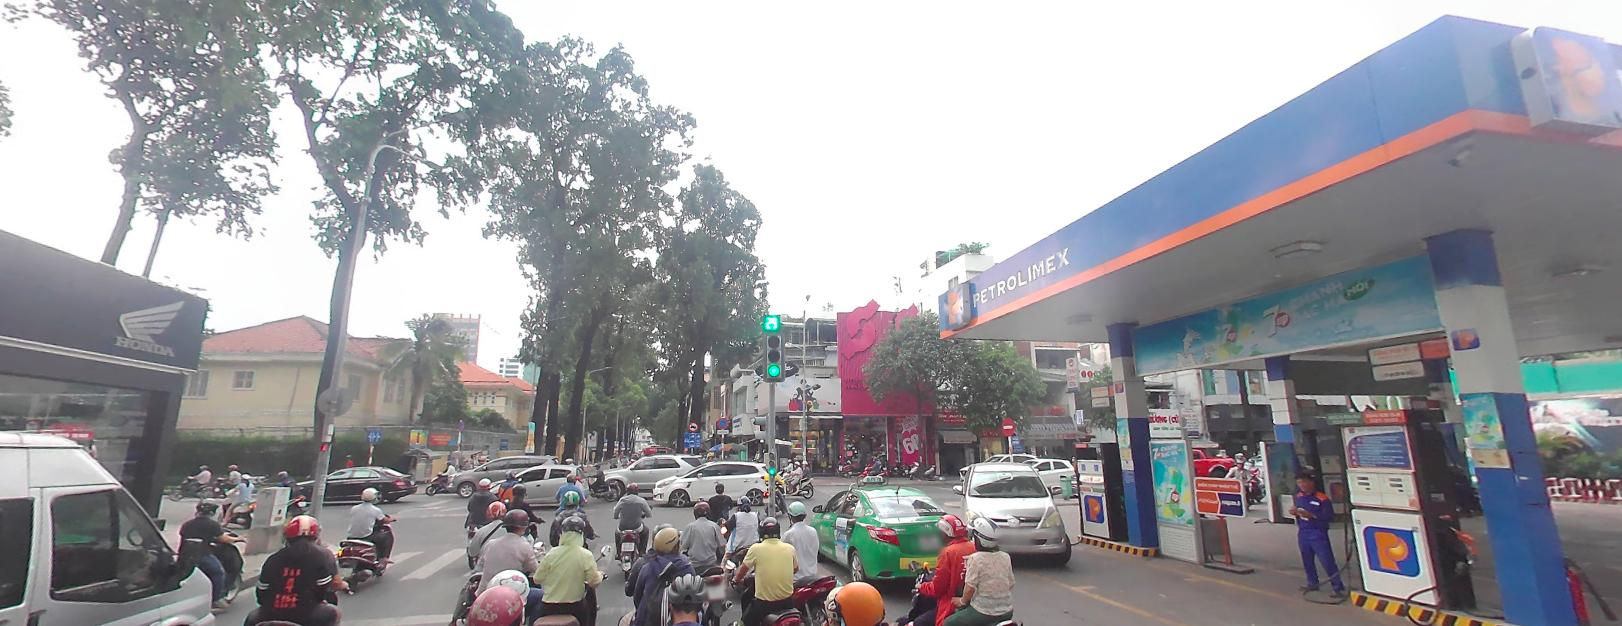Cam con lai: (688, 419, 698, 430)
Cam dung va do: (717, 415, 728, 428), (458, 419, 464, 431)
Cam nguoc chieu: (1000, 415, 1015, 434)
